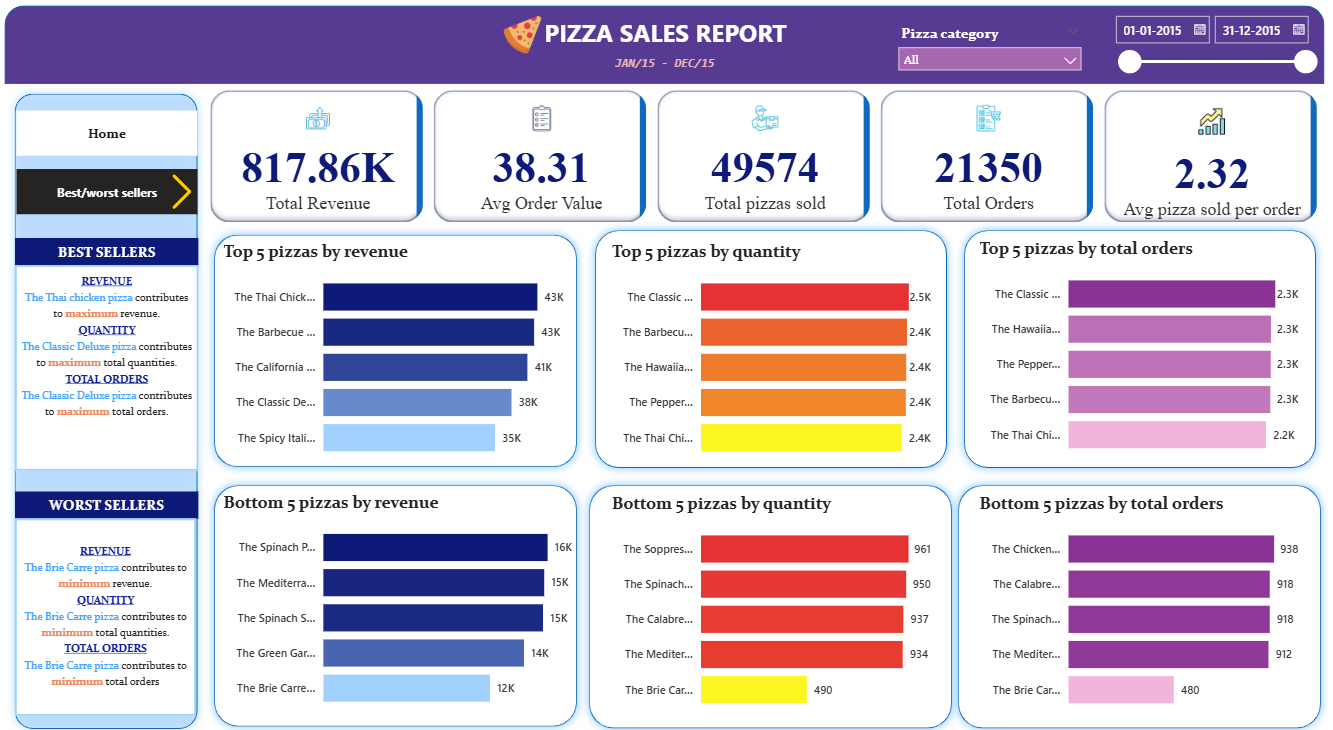

Layout of this report page (visuals, bound fields, positions):
{"tool":"powerbi","page":{"name":"Best/worst sellers","canvas":[1500,820],"ordinal":1},"visuals":[{"type":"cardVisual","fields":{"Data":["pizza_sales.Total Revenue","pizza_sales.Avg Order Value","pizza_sales.Total pizzas sold","pizza_sales.Total Orders","pizza_sales.Avg pizza sold per order"]},"box":[243.4,97.7,1235.6,158.6],"z":0},{"type":"shape","box":[22.1,11.1,1458.7,86.7],"z":1000},{"type":"textbox","box":[593.8,18.4,317.2,47.9],"z":2000},{"type":"image","box":[566.1,11.1,53.5,64.5],"z":3000},{"type":"textbox","box":[665.7,59,169.7,38.7],"z":4000},{"type":"shape","box":[244,256,420,276],"z":5000},{"type":"shape","box":[22.5,98.8,221.2,721.2],"z":6000},{"type":"textbox","box":[32.9,268.6,202.9,30],"z":7000},{"type":"textbox","box":[32.9,298.6,202.9,227.1],"z":8000},{"type":"textbox","box":[32.5,548.8,202.5,30],"z":9000},{"type":"textbox","box":[33.3,578.9,200,217.8],"z":10000},{"type":"slicer","fields":{"Values":["pizza_sales.pizza_category"]},"box":[1000,26,222,80],"z":11000},{"type":"slicer","fields":{"Values":["pizza_sales.order_date"]},"box":[1236,14,244,80],"z":12000},{"type":"shape","box":[664,250,408,282],"z":13000},{"type":"shape","box":[1072,250,408,282],"z":14000},{"type":"shape","box":[244,532,420,286],"z":15000},{"type":"shape","box":[658,532,420,288],"z":16000},{"type":"shape","box":[1066,532,420,288],"z":17000},{"type":"barChart","title":"Top 5 pizzas by revenue","fields":{"Category":["pizza_sales.pizza_name"],"Y":["pizza_sales.Total Revenue"]},"box":[258,272,408,254],"z":17001},{"type":"barChart","title":"Bottom 5 pizzas by revenue","fields":{"Category":["pizza_sales.pizza_name"],"Y":["pizza_sales.Total Revenue"]},"box":[258,548,408,254],"z":17002},{"type":"barChart","title":"Top 5 pizzas by quantity","fields":{"Category":["pizza_sales.pizza_name"],"Y":["pizza_sales.Total pizzas sold"]},"box":[688,272,362,254],"z":17003},{"type":"barChart","title":"Bottom 5 pizzas by quantity","fields":{"Category":["pizza_sales.pizza_name"],"Y":["pizza_sales.Total pizzas sold"]},"box":[688,550,362,254],"z":17004},{"type":"barChart","title":"Top 5 pizzas by total orders","fields":{"Category":["pizza_sales.pizza_name"],"Y":["pizza_sales.Total Orders"]},"box":[1094,268,362,254],"z":17005},{"type":"barChart","title":"Bottom 5 pizzas by total orders","fields":{"Category":["pizza_sales.pizza_name"],"Y":["pizza_sales.Total Orders"]},"box":[1094,550,362,254],"z":17006},{"type":"pageNavigator","box":[34,128,200,50],"z":17007},{"type":"pageNavigator","box":[34,192,200,50],"z":17008},{"type":"image","box":[189.9,191.8,53.5,49.8],"z":17009}]}

Visuals, with their boxes in screenshot pixels (x1, y1, x2, y2), scaled from the page's 1500x820 canvas onto the 1333x730 screenshot:
cardVisual - pizza_sales.Total Revenue x pizza_sales.Avg Order Value: 216:87:1314:228
shape: 20:10:1316:87
textbox: 528:16:810:59
image: 503:10:551:67
textbox: 592:53:742:87
shape: 217:228:590:474
shape: 20:88:217:729
textbox: 29:239:210:266
textbox: 29:266:210:468
textbox: 29:489:209:515
textbox: 30:515:207:709
slicer - pizza_sales.pizza_category: 889:23:1086:94
slicer - pizza_sales.order_date: 1098:12:1315:84
shape: 590:223:953:474
shape: 953:223:1315:474
shape: 217:474:590:728
shape: 585:474:958:729
shape: 947:474:1321:729
"Top 5 pizzas by revenue" barChart: 229:242:592:468
"Bottom 5 pizzas by revenue" barChart: 229:488:592:714
"Top 5 pizzas by quantity" barChart: 611:242:933:468
"Bottom 5 pizzas by quantity" barChart: 611:490:933:716
"Top 5 pizzas by total orders" barChart: 972:239:1294:465
"Bottom 5 pizzas by total orders" barChart: 972:490:1294:716
pageNavigator: 30:114:208:158
pageNavigator: 30:171:208:215
image: 169:171:216:215
